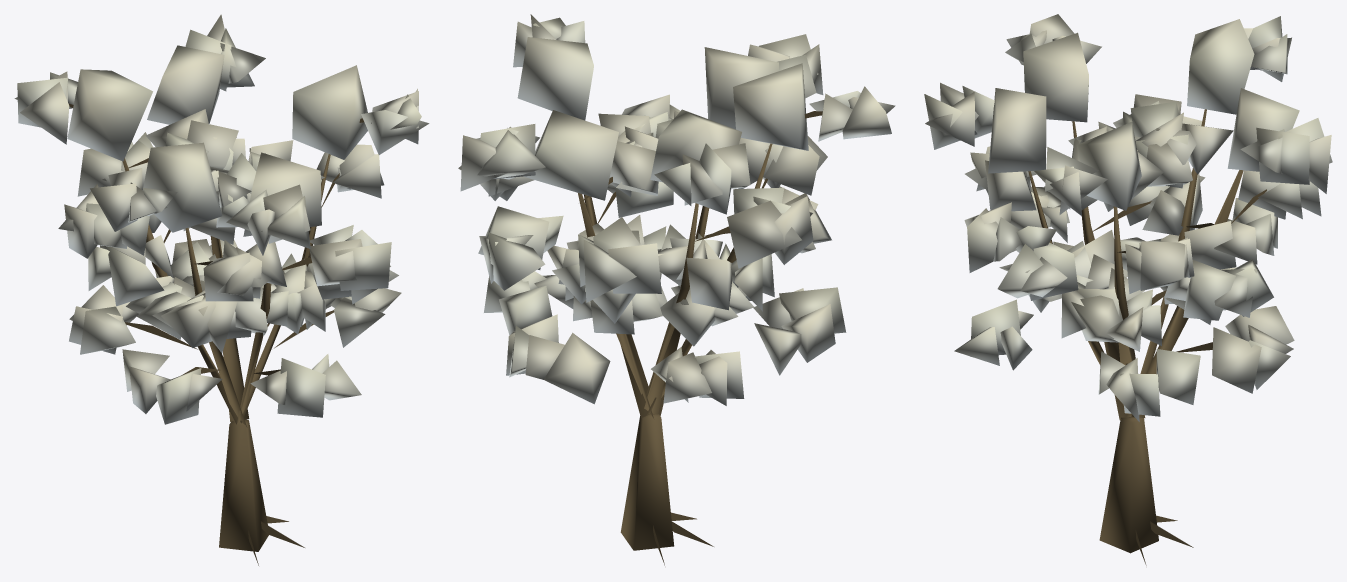
The picture shows the model from 3 angles, left to right: view 1: azimuth 30°, elevation 25°; view 2: azimuth 150°, elevation 25°; view 3: azimuth 270°, elevation 25°; orthographic projection. The views are drawn at different scales.
Visible parts, largest first — view 1: crown, trunk; view 2: crown, trunk; view 3: crown, trunk.
Part boxes in pixels (box(x1,y1,x2,y2)): crown: box(14, 14, 429, 424); trunk: box(69, 104, 363, 565); crown: box(458, 14, 895, 405); trunk: box(578, 111, 822, 565); crown: box(924, 14, 1332, 421); trunk: box(1028, 109, 1266, 565).
Size of the model in its own units: 10.37 by 13.28 by 10.51.
